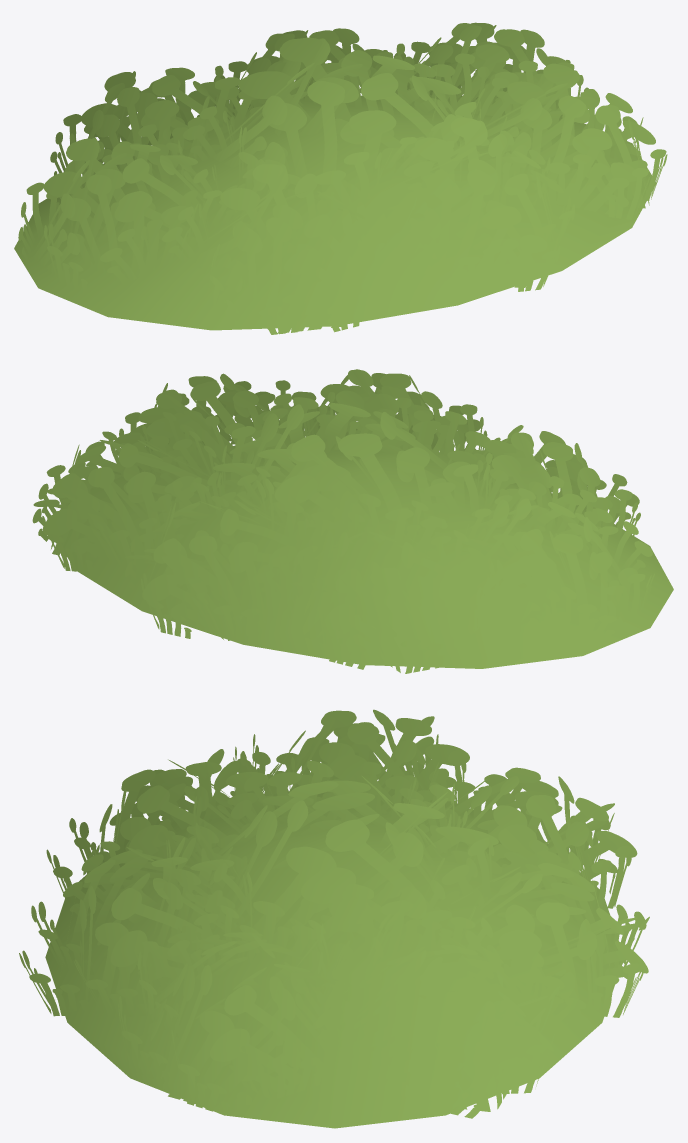
The model's file is SM_Moss_01.fbx.
3 renders of one model, top to bottom at view 1: azimuth 30°, elevation 25°; view 2: azimuth 150°, elevation 25°; view 3: azimuth 270°, elevation 25°, orthographic. The views are drawn at different scales.
Visible parts, largest first — view 1: SM_Moss_1; view 2: SM_Moss_1; view 3: SM_Moss_1.
Boxes of the visible parts, x1,y1,x2,y2 form: SM_Moss_1: [14, 22, 667, 334]; SM_Moss_1: [32, 369, 673, 673]; SM_Moss_1: [19, 709, 649, 1128].
Size of the model in its own units: 47.73 by 11.99 by 38.86.
